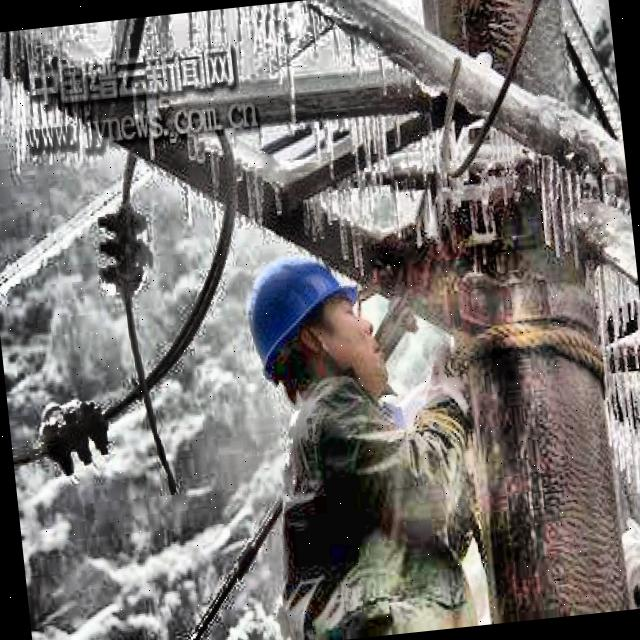helmet: (228, 226, 390, 422)
